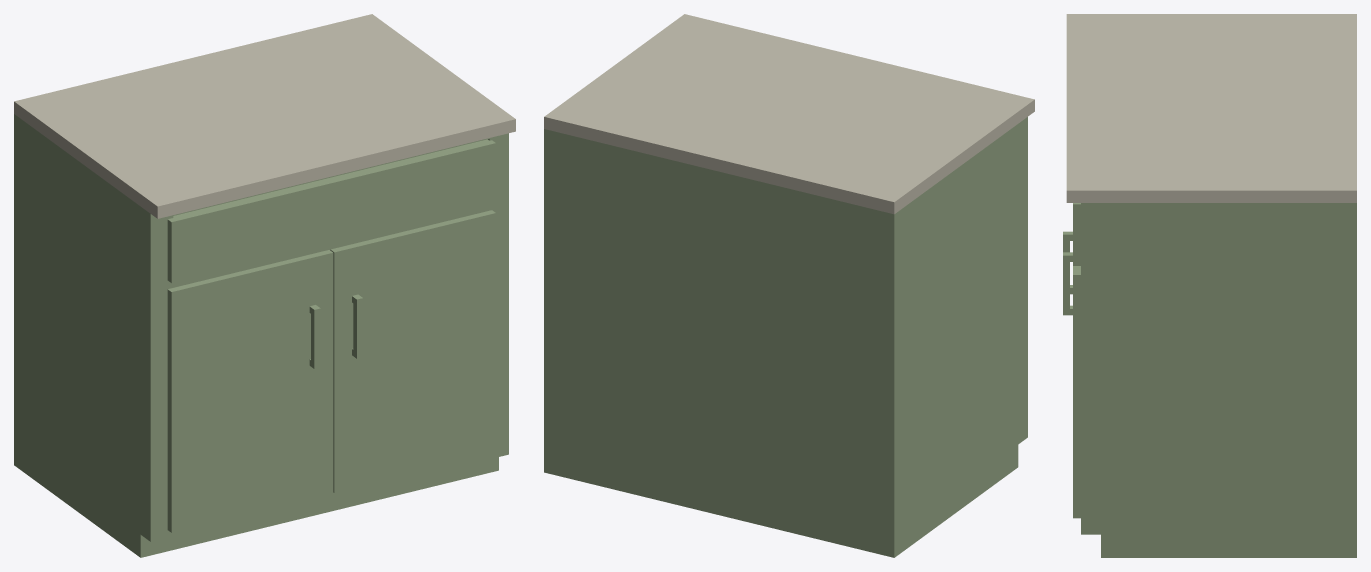
File: KitchenCounter_01.fbx
3 views of the same model, side by side, from view 1: azimuth 30°, elevation 25°; view 2: azimuth 150°, elevation 25°; view 3: azimuth 270°, elevation 25° (orthographic). The views are drawn at different scales.
Visible parts, largest first — view 1: KitchenCounter_01, KitchenCounter_01_Door_L, KitchenCounter_01_Door_R, KitchenCounter_01_Drawer; view 2: KitchenCounter_01; view 3: KitchenCounter_01, KitchenCounter_01_Door_R, KitchenCounter_01_Drawer.
Part boxes in pixels (x1,y1,x2,y2): KitchenCounter_01: (14, 14, 515, 557); KitchenCounter_01_Door_L: (167, 250, 333, 532); KitchenCounter_01_Door_R: (330, 210, 495, 492); KitchenCounter_01_Drawer: (167, 139, 495, 283); KitchenCounter_01: (544, 14, 1034, 557); KitchenCounter_01: (1066, 14, 1356, 557); KitchenCounter_01_Door_R: (1063, 252, 1080, 518); KitchenCounter_01_Drawer: (1073, 203, 1080, 265).
Bounding box in the file's own units: 1 × 0.9704 × 0.7037.
